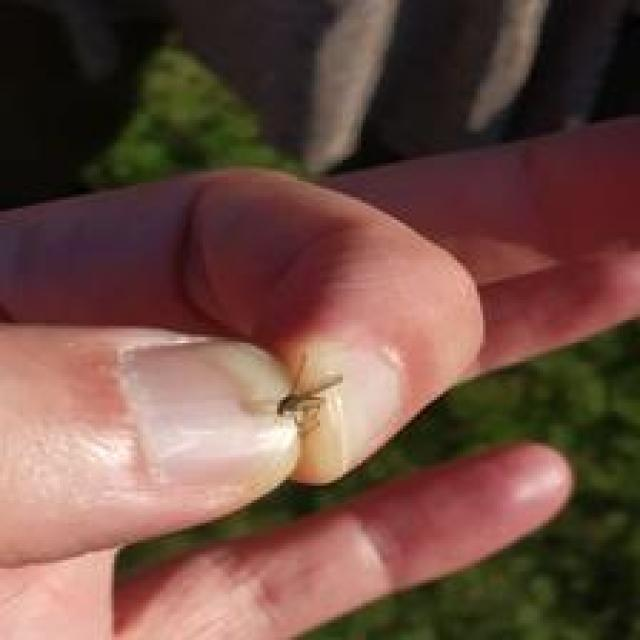Culex: (274, 350, 343, 436)
